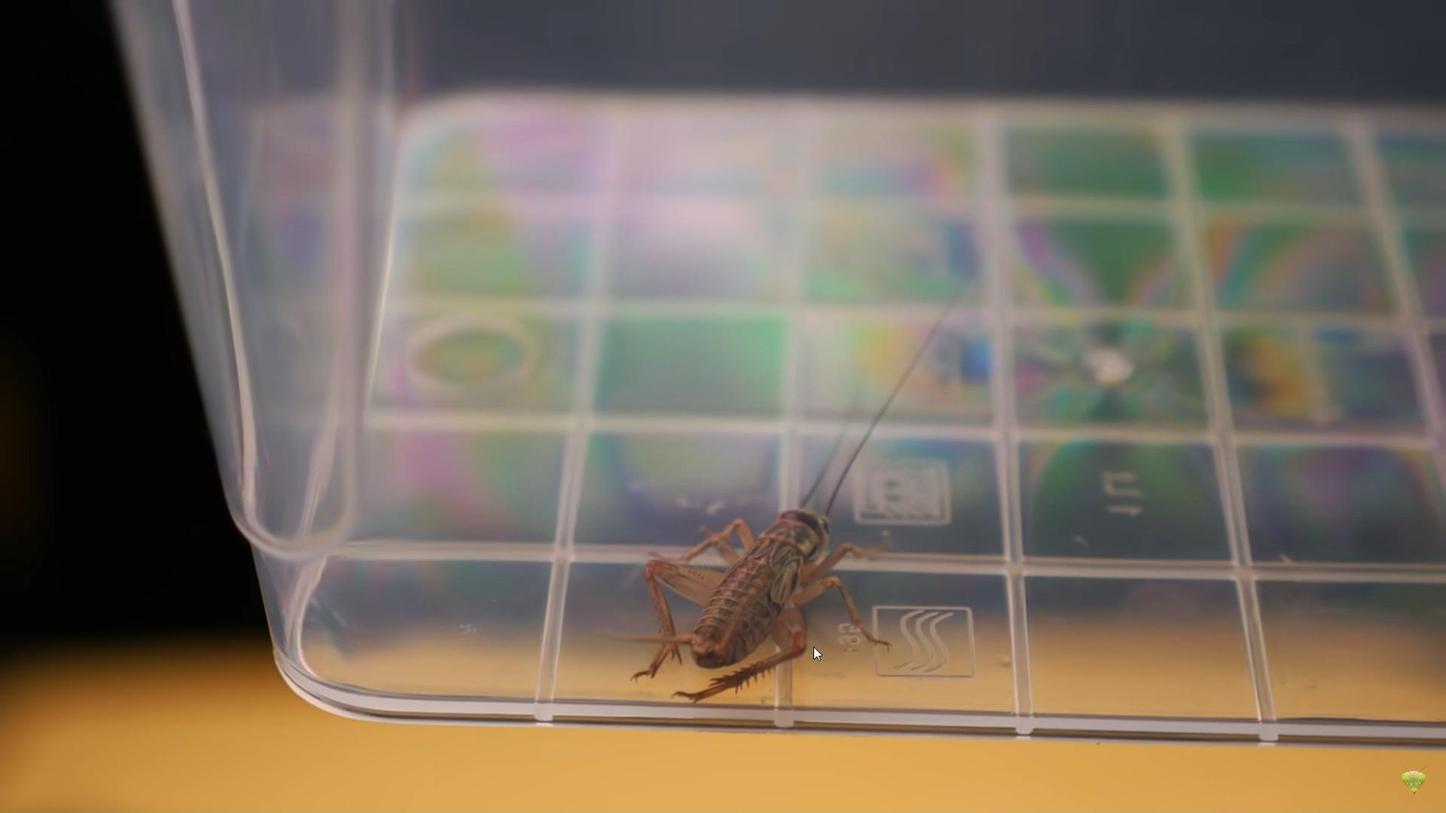cockroach: (628, 475, 892, 707)
